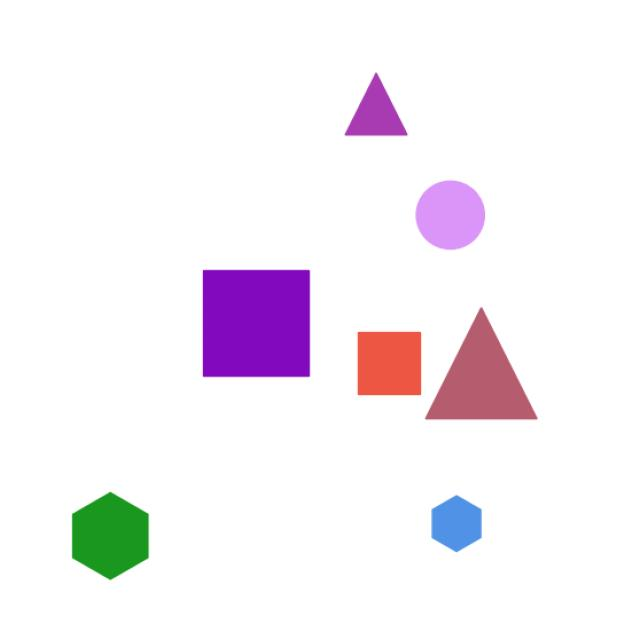Circle: (404, 170, 496, 256)
Hexagon: (45, 478, 169, 584), (406, 486, 504, 574)
Triangle: (420, 280, 546, 426), (331, 66, 436, 147)
square: (189, 258, 327, 389), (342, 326, 432, 402)
